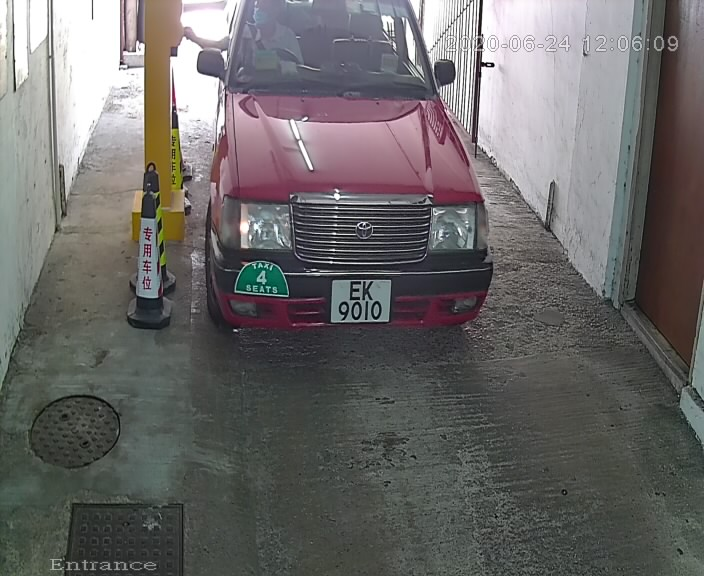Car: (186, 1, 507, 363)
License Plate: (325, 269, 400, 335)
